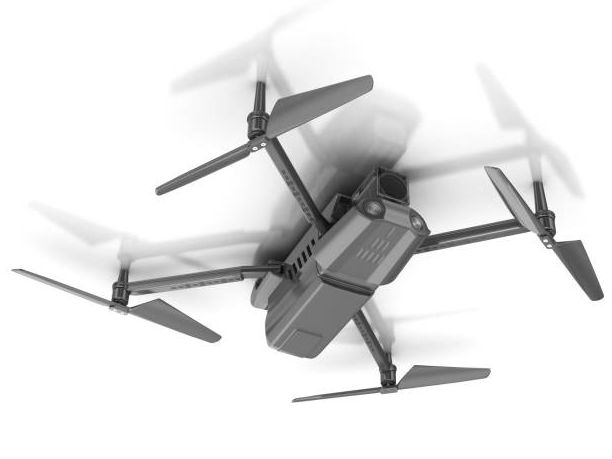Drone: (9, 74, 606, 411)
